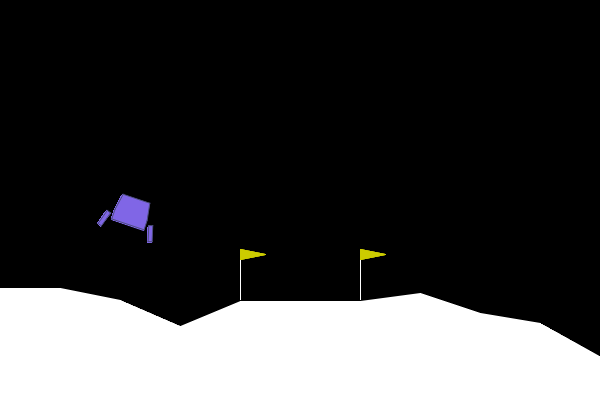lander: (96, 188, 165, 245)
